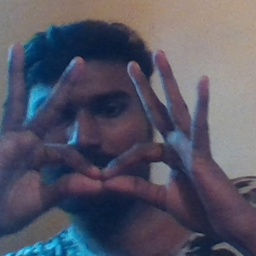B: (31, 104, 182, 216)
